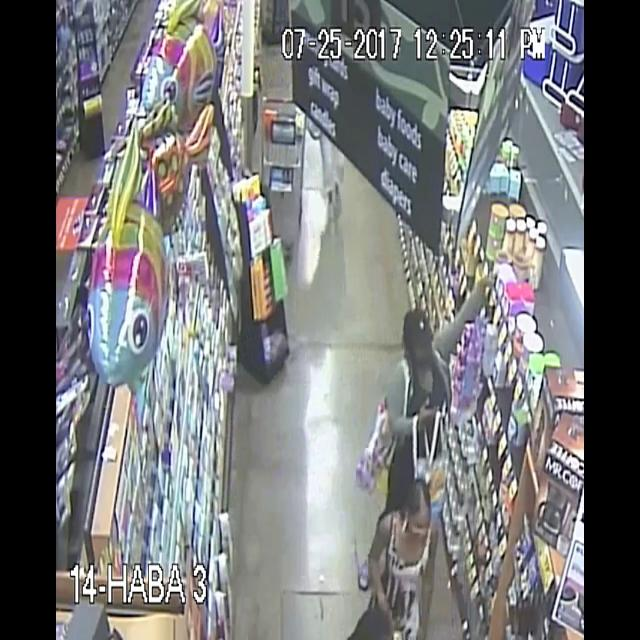Product: (476, 273, 506, 325)
normal: (346, 442, 447, 640)
shoplifting: (338, 241, 516, 499)
